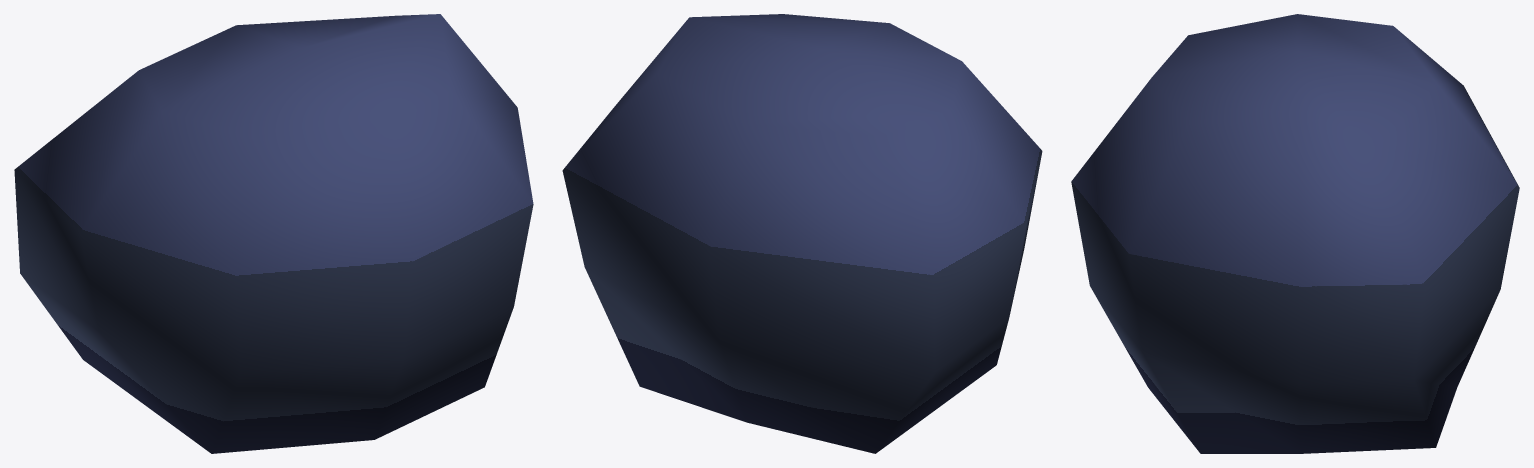
The model's file is Rock_3.fbx.
3 renders of one model, left to right at view 1: azimuth 30°, elevation 25°; view 2: azimuth 150°, elevation 25°; view 3: azimuth 270°, elevation 25°, orthographic. The views are drawn at different scales.
Parts seen in each view (by area): view 1: Rock02; view 2: Rock02; view 3: Rock02.
Boxes of the visible parts, left/top/right/bottom form: Rock02: left=14, top=14, right=533, bottom=453; Rock02: left=562, top=14, right=1042, bottom=453; Rock02: left=1071, top=14, right=1519, bottom=453.
Size of the model in its own units: 150 by 111 by 134.
Materials: 1 (1 with a texture image).
